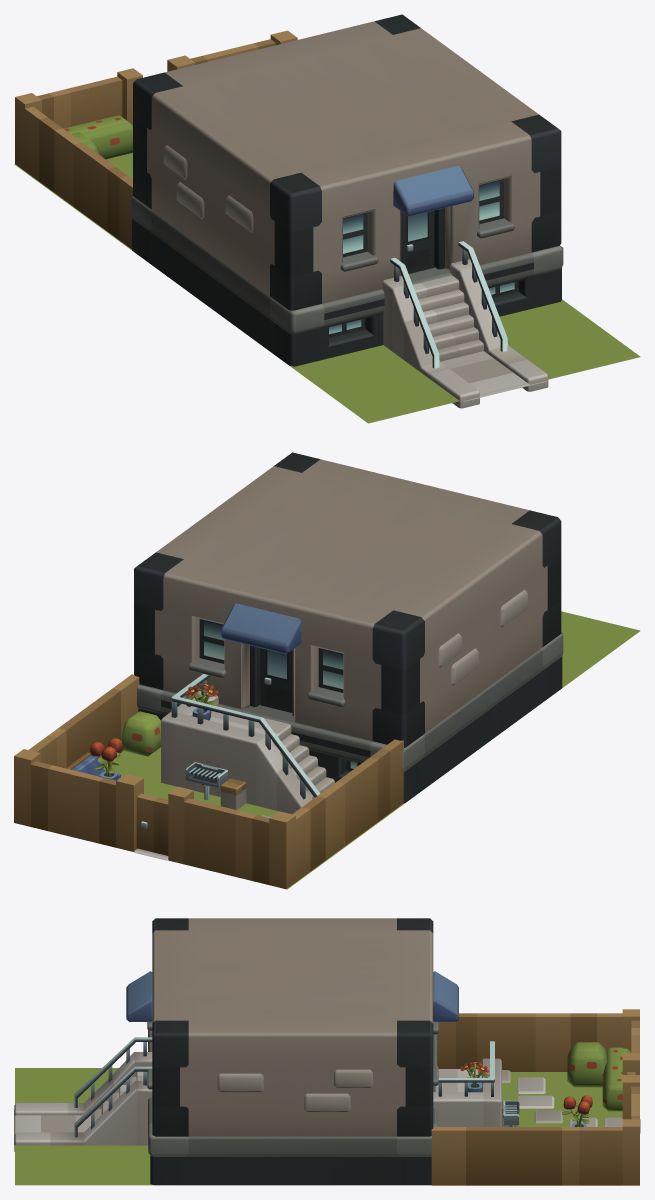
The model's file is appartment_type1_x4_ground_cream.fbx.
The picture shows the model from 3 angles, top to bottom: view 1: azimuth 30°, elevation 25°; view 2: azimuth 150°, elevation 25°; view 3: azimuth 270°, elevation 25°; orthographic projection. The views are drawn at different scales.
Parts seen in each view (by area): view 1: appartment_type1_x4_ground_cream, door_front_appartment_type1_x4_ground; view 2: appartment_type1_x4_ground_cream, door_back_appartment_type1_x4_ground, door_garden_appartment_type1_x4_ground; view 3: appartment_type1_x4_ground_cream.
Part boxes in pixels (left/top/right/bottom): appartment_type1_x4_ground_cream: left=14, top=14, right=640, bottom=423; door_front_appartment_type1_x4_ground: left=402, top=210, right=434, bottom=273; appartment_type1_x4_ground_cream: left=14, top=452, right=640, bottom=889; door_back_appartment_type1_x4_ground: left=260, top=648, right=292, bottom=712; door_garden_appartment_type1_x4_ground: left=136, top=793, right=168, bottom=855; appartment_type1_x4_ground_cream: left=14, top=918, right=640, bottom=1185.
Size of the model in its own units: 819 by 501 by 1806.
